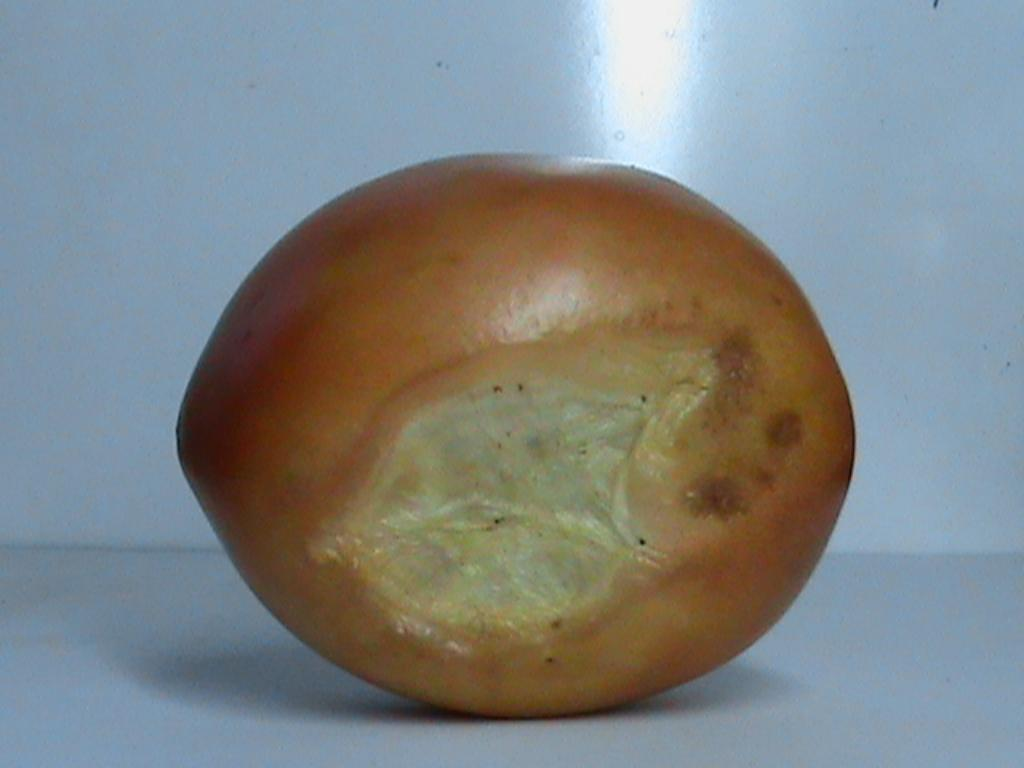bruise_discoloration: (302, 339, 717, 628)
rot_mold_decay: (712, 331, 758, 386), (763, 405, 810, 454), (686, 486, 739, 510)
tomato: (179, 155, 853, 714)
